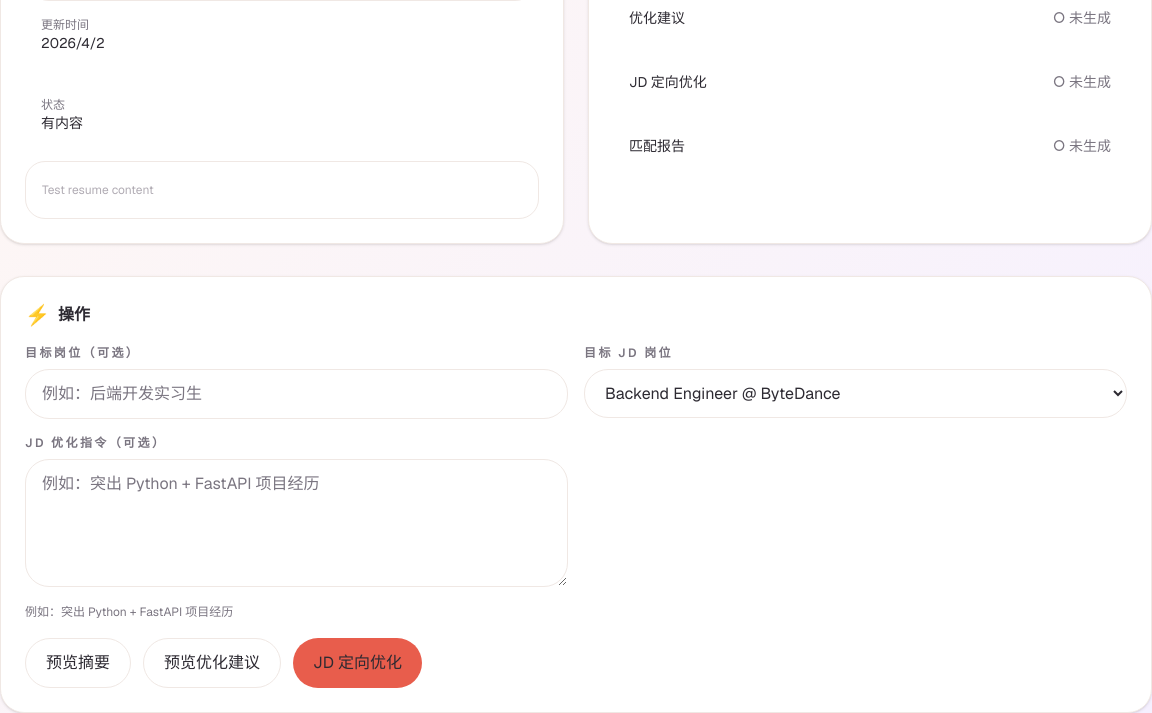
Scenario: 结果工作台布局 › shows unified result boundary after generating content
The width and height of the screenshot is (1152, 713).
(page scrolled)
Click the button "JD 定向优化": (357, 663) top-left (293, 638), bottom-right (422, 688)
(page scrolled)
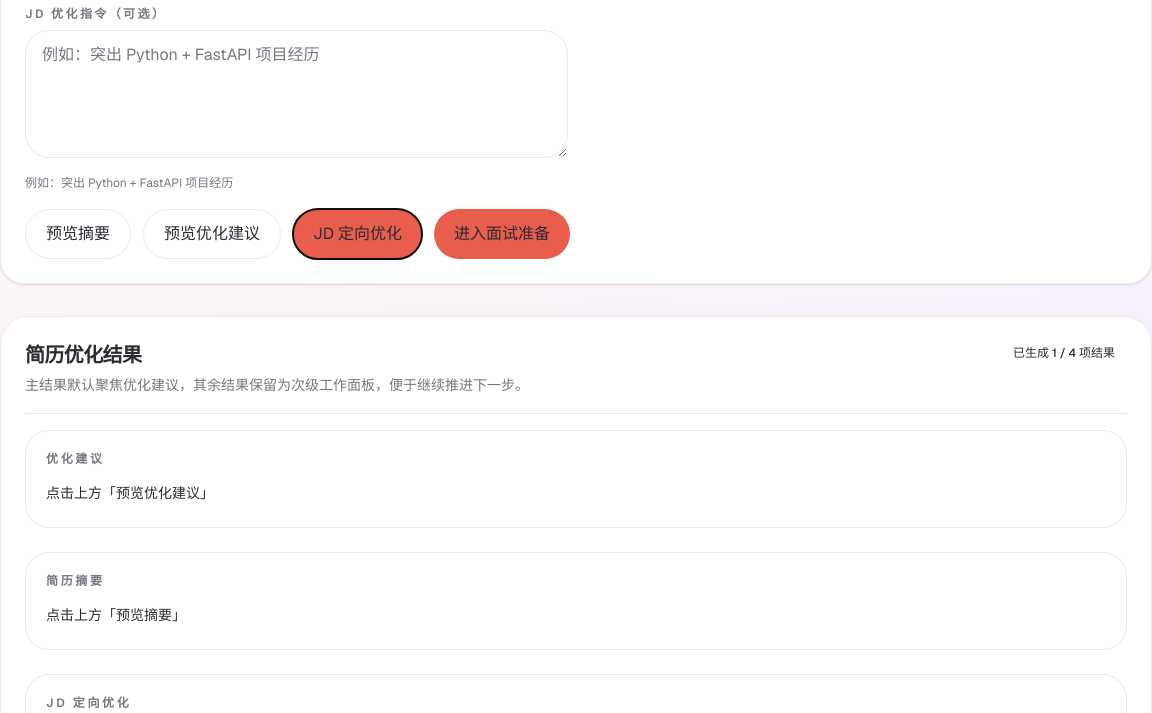
Expected: the heading "简历优化结果" is shown, top-left (25, 342), bottom-right (141, 368)
Expected: the text "已生成 1 / 4 项结果" is shown, top-left (1001, 341), bottom-right (1127, 365)
